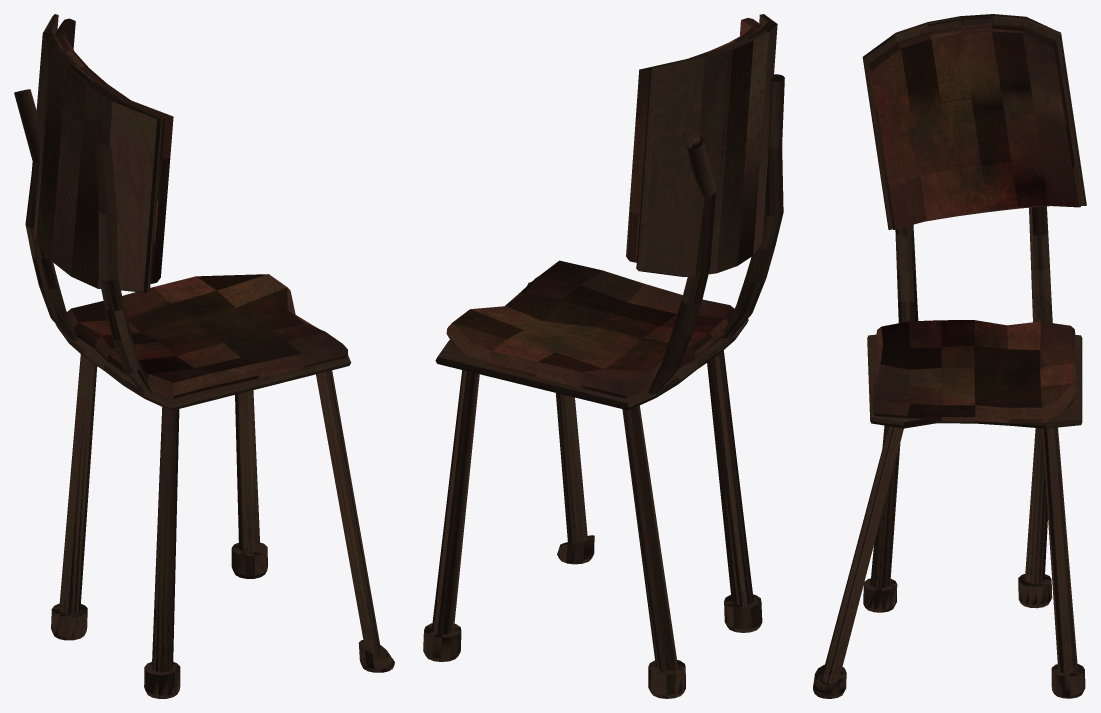
Rendered from FPH_ChairTwo.fbx.
The picture shows the model from 3 angles, left to right: view 1: azimuth 30°, elevation 25°; view 2: azimuth 150°, elevation 25°; view 3: azimuth 270°, elevation 25°; orthographic projection. The views are drawn at different scales.
Visible parts, largest first — view 1: FPH_ChairTwo; view 2: FPH_ChairTwo; view 3: FPH_ChairTwo.
Part boxes in pixels (x1,y1,x2,y2): FPH_ChairTwo: (14,14,394,698); FPH_ChairTwo: (423,14,784,698); FPH_ChairTwo: (813,14,1086,698).
Size of the model in its own units: 2.82 by 6.39 by 2.77.
1 material, 1 textured.
